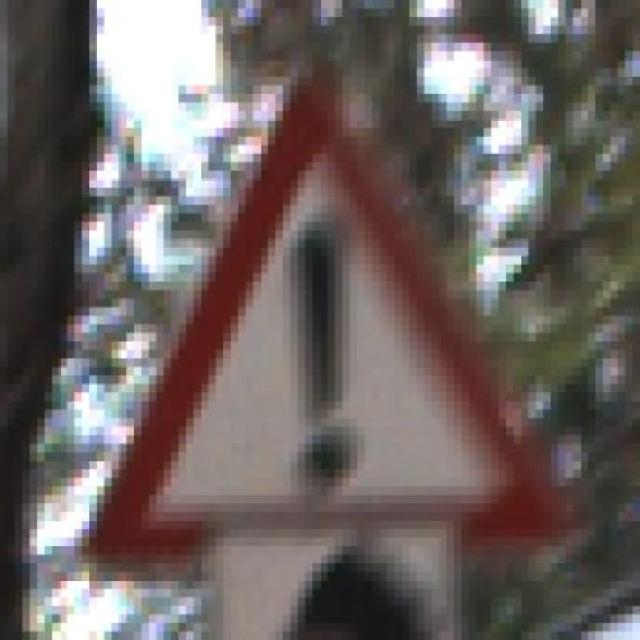Attention Please-: (75, 42, 573, 572)
